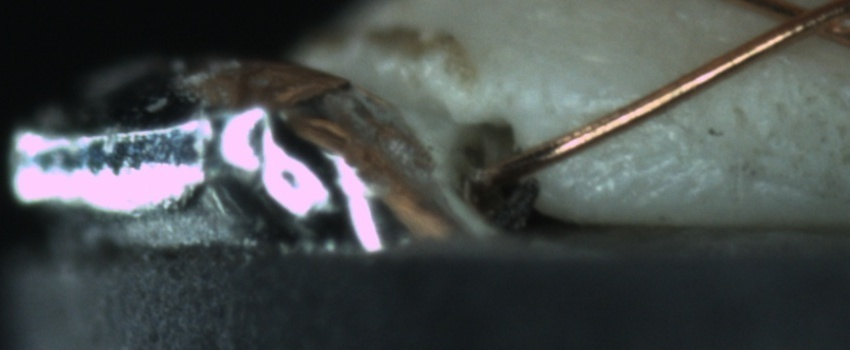CL: (759, 0, 845, 46)
DL: (539, 77, 667, 131)
